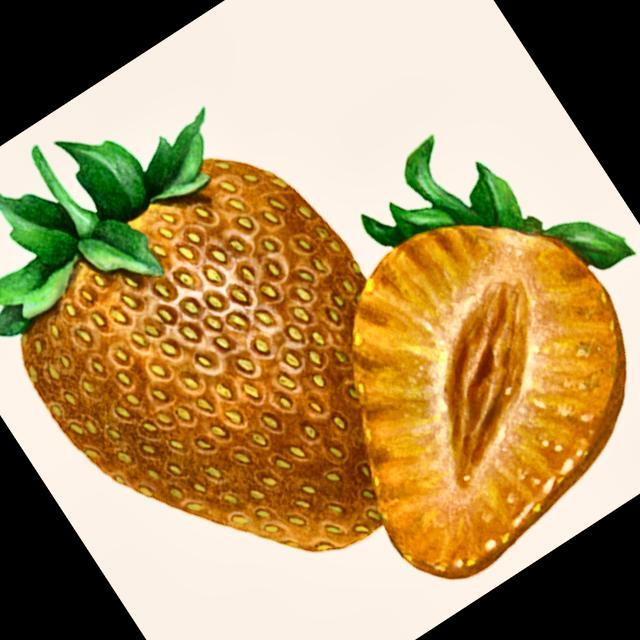strawberry: (0, 111, 381, 549), (354, 136, 632, 578)
